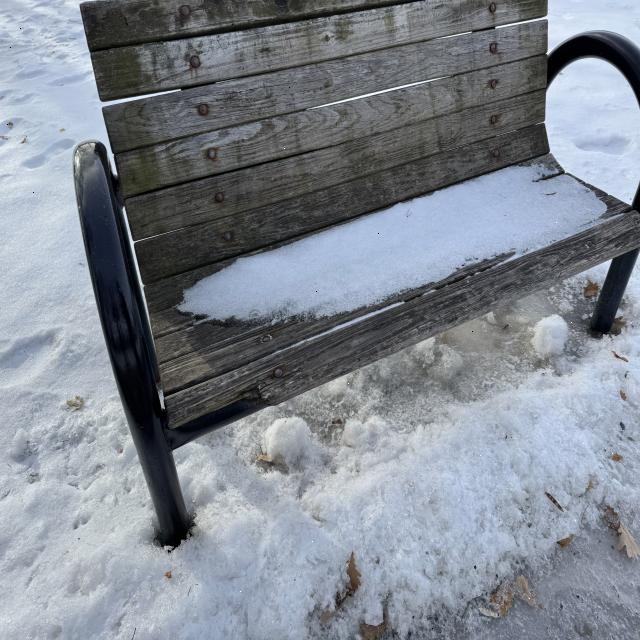Bench: (72, 69, 639, 546)
